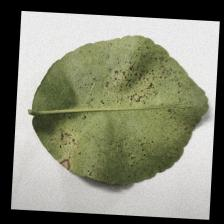canker: (82, 45, 180, 101)
